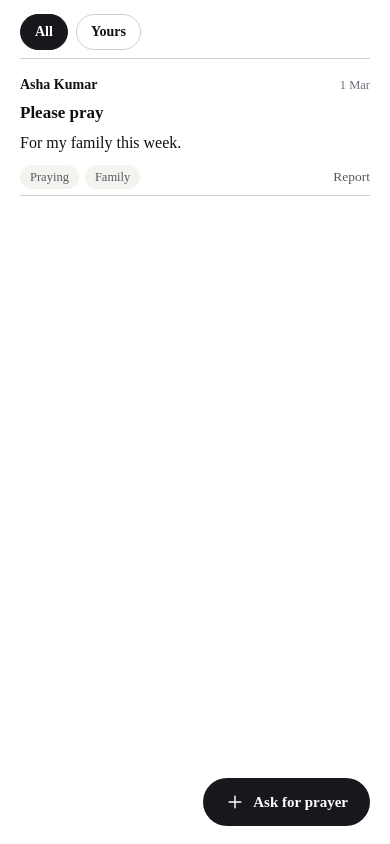
Test: asking for prayer › submits what was typed and returns to the feed
Click the button with test id "prayer-wall-compose" at (287, 802), box [203,778,370,826]
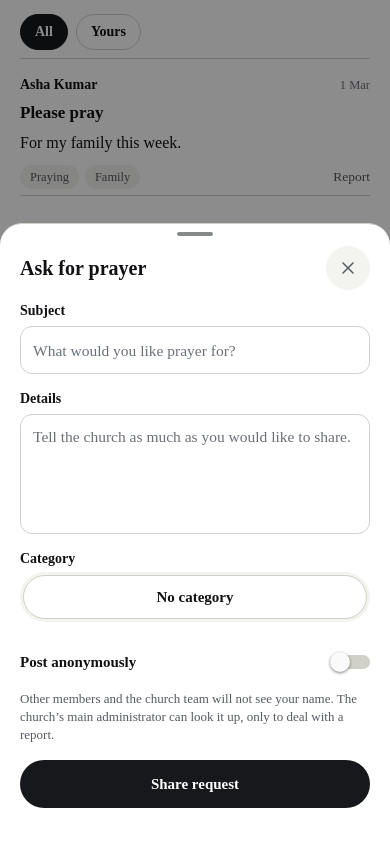
Result: the field with test id "prayer-form-title" is shown
Type "Travelling" into the field with test id "prayer-form-title" at (195, 350), box [20,326,370,374]
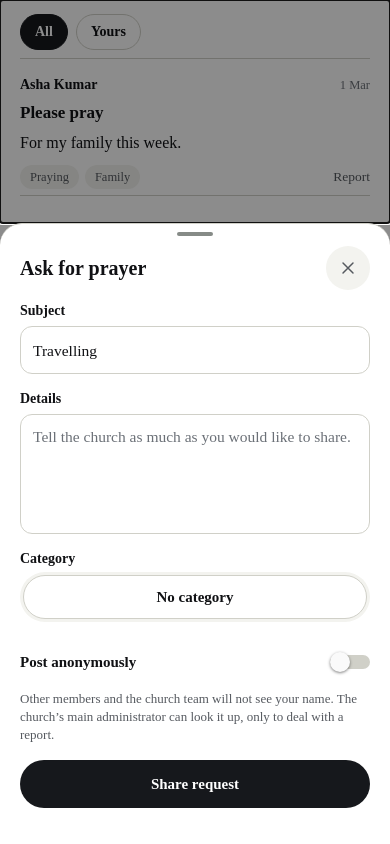
Type "Please pray for safety on the road." into the text box with test id "prayer-form-body" at (195, 474), box [20,414,370,534]
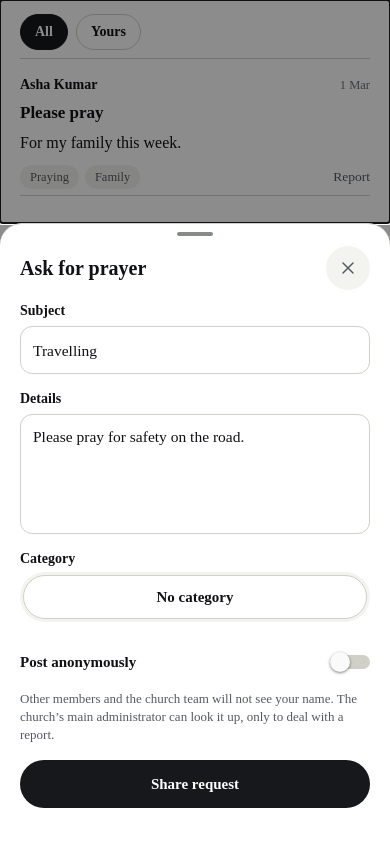
Click the button with test id "prayer-form-submit" at (195, 784), box [20,760,370,808]
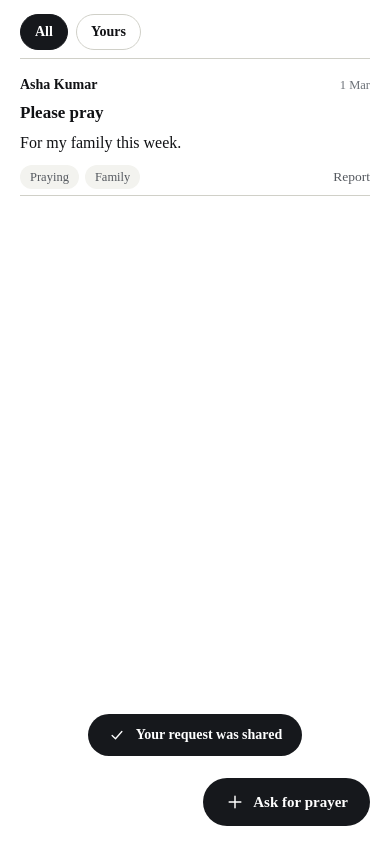
Expected: the element with test id "prayer-wall-list" is shown, [20,14,370,196]
Result: the field with test id "prayer-form-title" is gone
